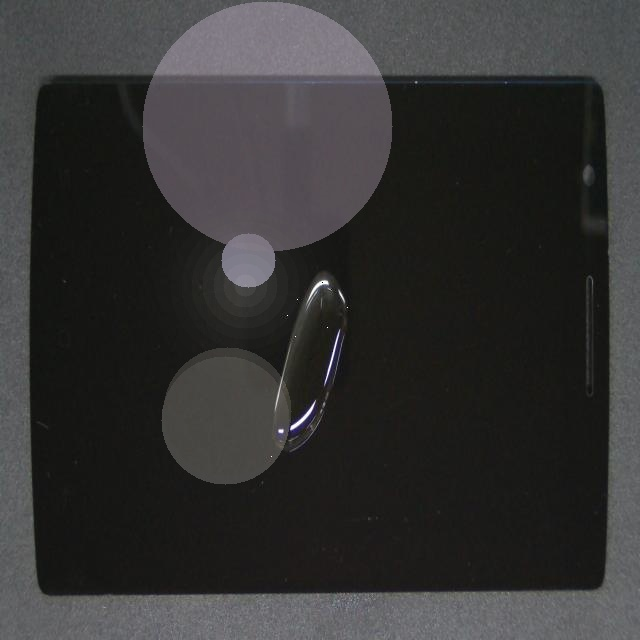oil: (133, 179, 409, 640)
